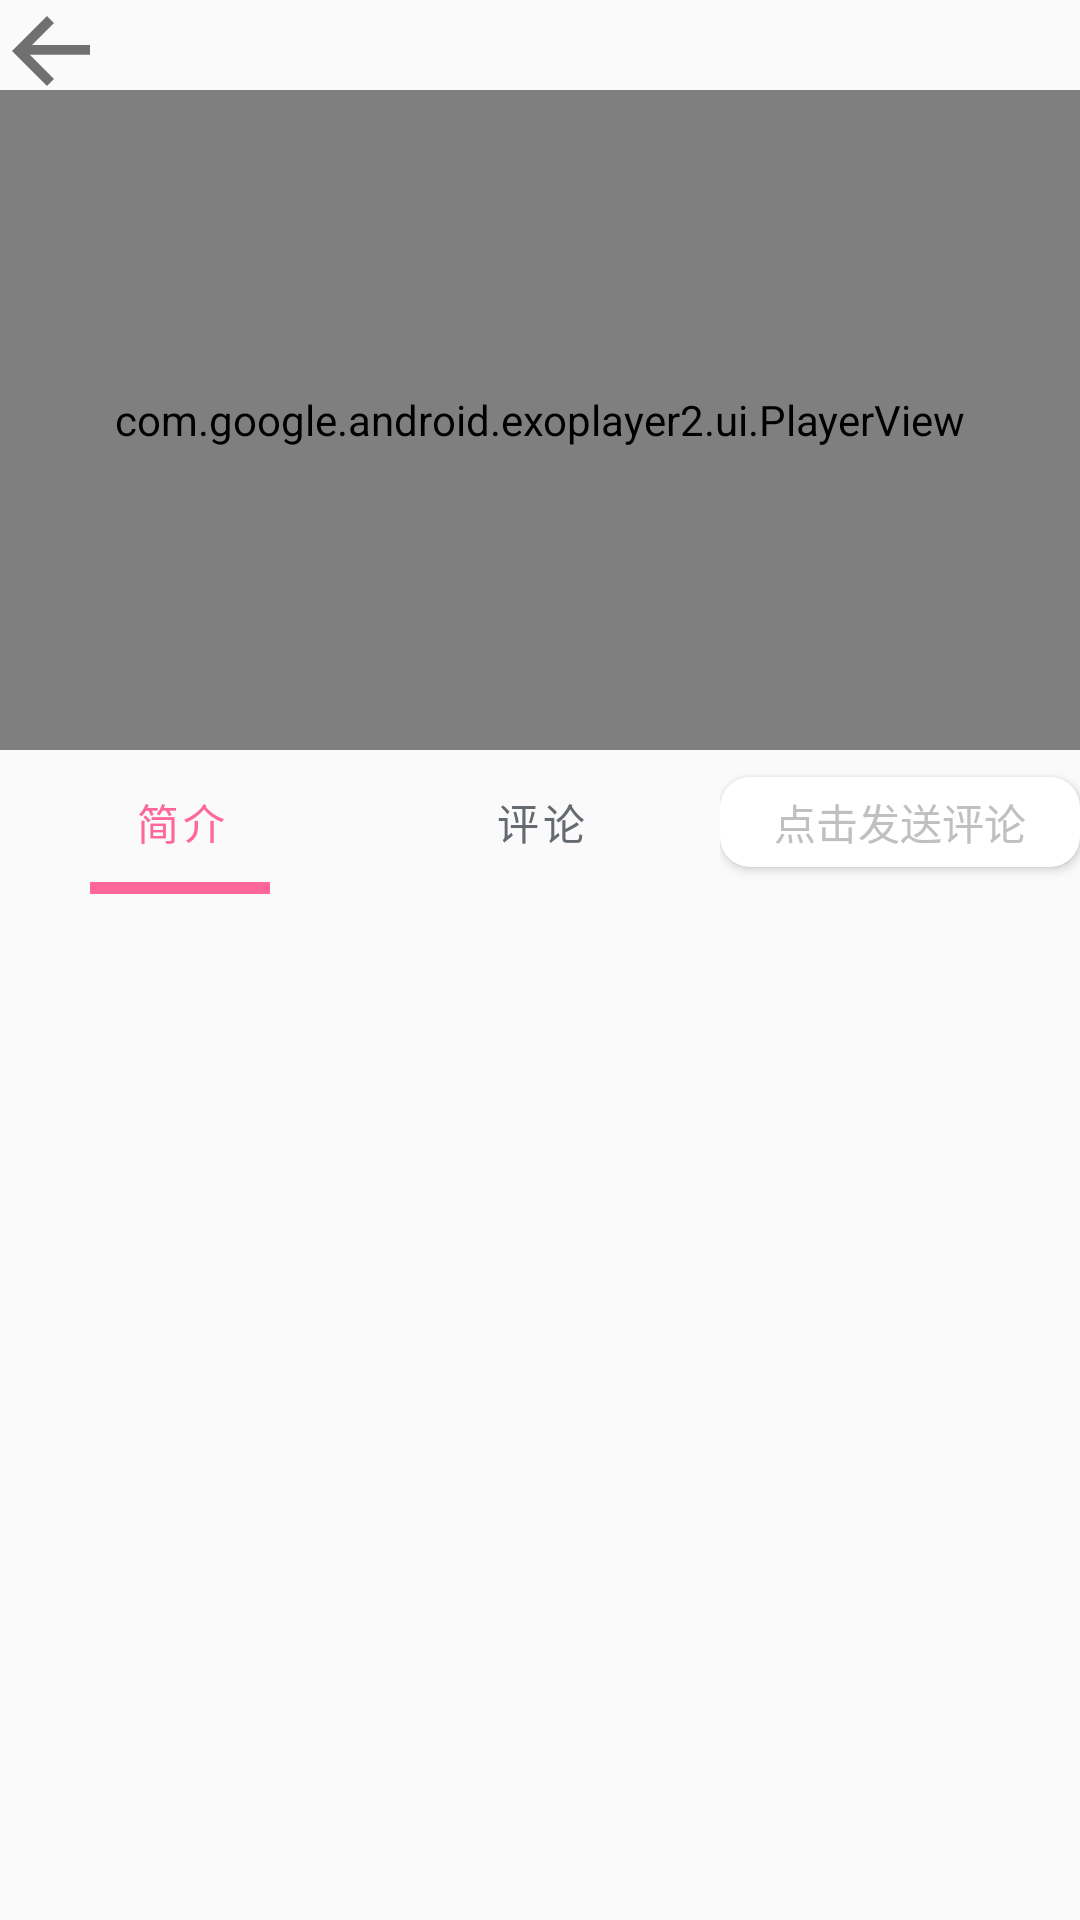

Where to tap for icons on this 1080px×1920px app screen, as (x,y):
getblack: (51,51)
